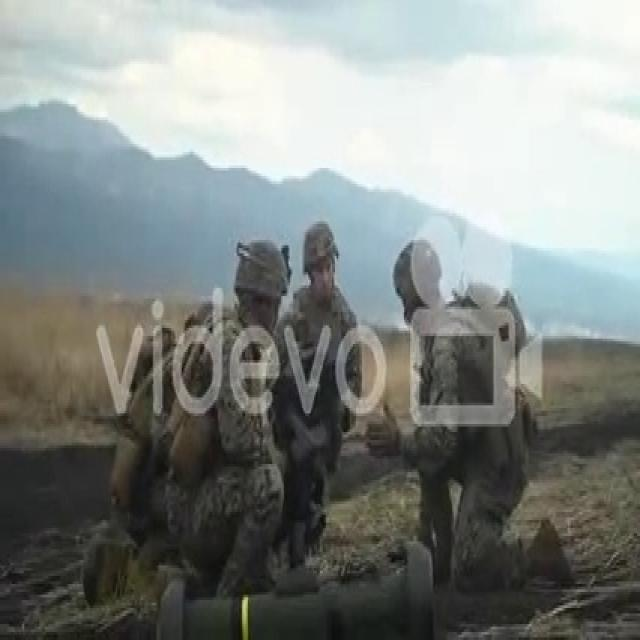bazooka: (150, 534, 443, 640)
